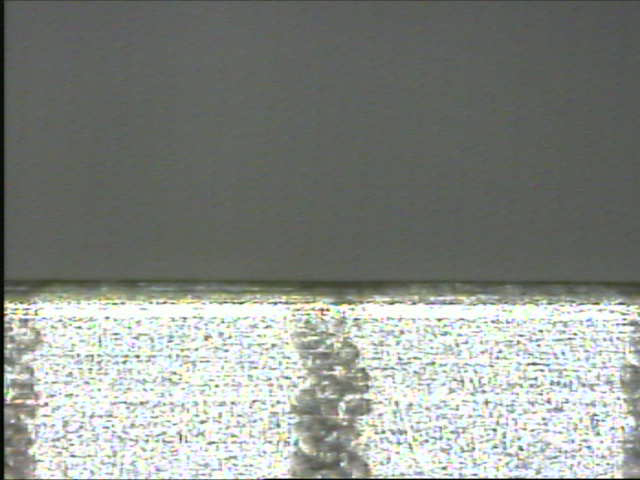line: (286, 309, 377, 479)
